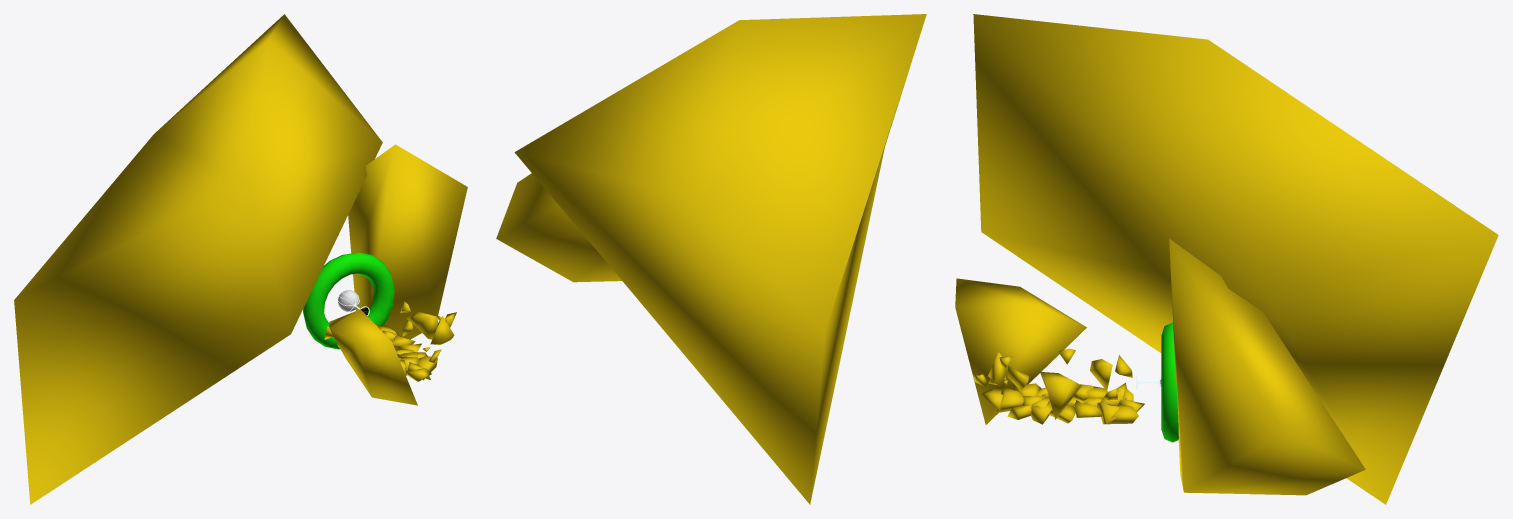
The picture shows the model from 3 angles, left to right: view 1: azimuth 30°, elevation 25°; view 2: azimuth 150°, elevation 25°; view 3: azimuth 270°, elevation 25°; orthographic projection. The views are drawn at different scales.
Visible parts, largest first — view 1: fragment.074, fragment.073, fragment.068, Cylinder.005, fragment.065; view 2: fragment.074, fragment.073; view 3: fragment.074, fragment.073, fragment.068, Cylinder.005, fragment.065.
Boxes of the visible parts, x1,y1,x2,y2 form: fragment.074: (14,14,382,504); fragment.073: (348,144,467,339); fragment.068: (329,309,417,405); Cylinder.005: (303,252,394,349); fragment.065: (407,311,437,339); fragment.074: (514,14,926,504); fragment.073: (496,173,621,282); fragment.074: (973,14,1498,504); fragment.073: (1169,239,1365,495); fragment.068: (955,278,1086,424); Cylinder.005: (1161,322,1178,442); fragment.065: (1040,372,1081,419).
Size of the model in its own units: 4301 by 4823 by 4271.
